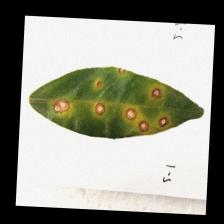canker: (50, 61, 176, 133)
